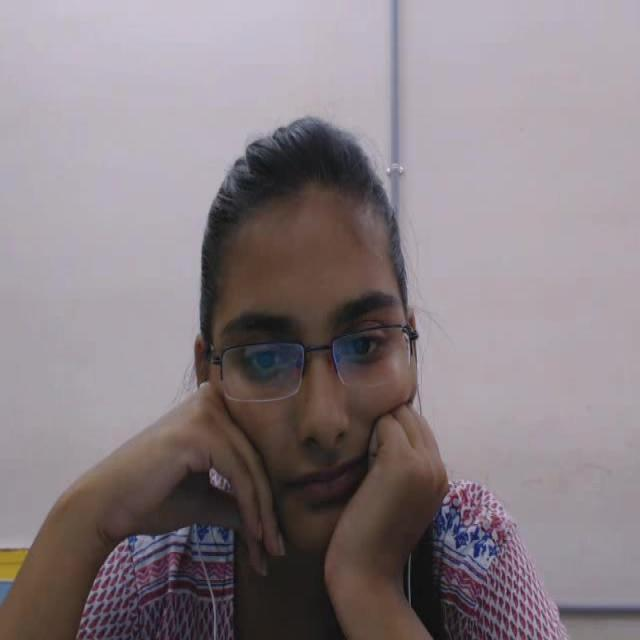Bored: (171, 100, 447, 576)
